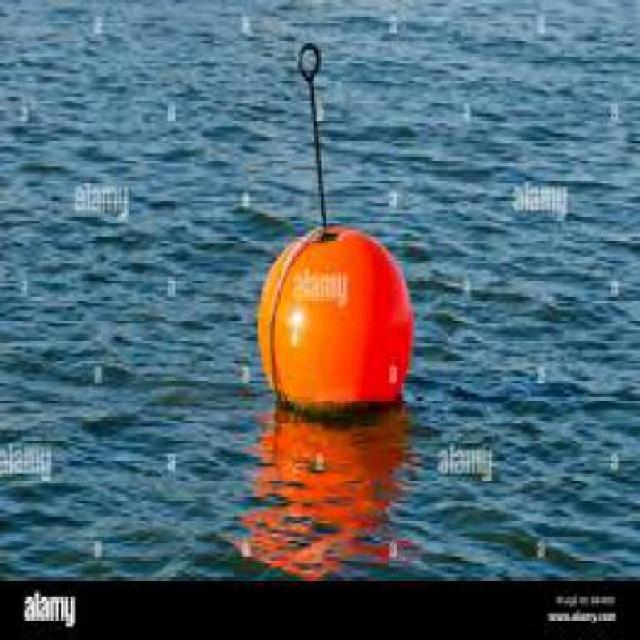buoy: (247, 174, 420, 425)
